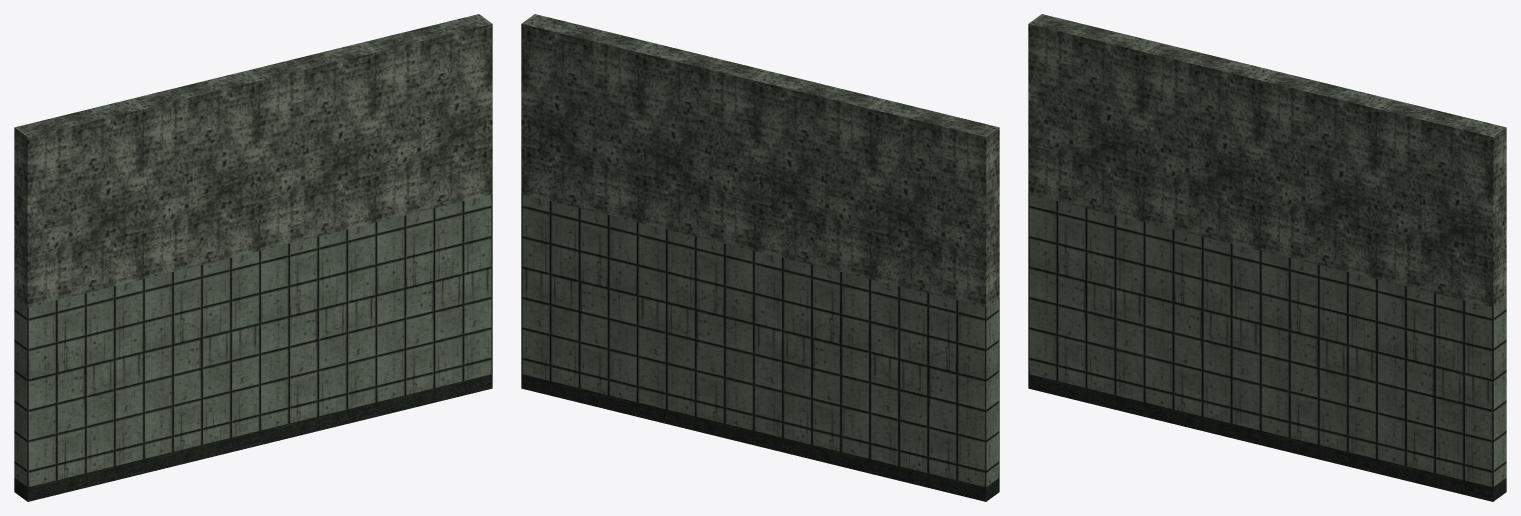
File: SM_Wall_4m.fbx
The picture shows the model from 3 angles, left to right: view 1: azimuth 30°, elevation 25°; view 2: azimuth 150°, elevation 25°; view 3: azimuth 330°, elevation 25°; orthographic projection.
Visible parts, largest first — view 1: SM_Wall_4m; view 2: SM_Wall_4m; view 3: SM_Wall_4m.
Part boxes in pixels (left/top/right/bottom): SM_Wall_4m: left=14, top=14, right=492, bottom=501; SM_Wall_4m: left=521, top=14, right=999, bottom=501; SM_Wall_4m: left=1028, top=14, right=1506, bottom=501.
Size of the model in its own units: 4 by 3 by 0.2.
